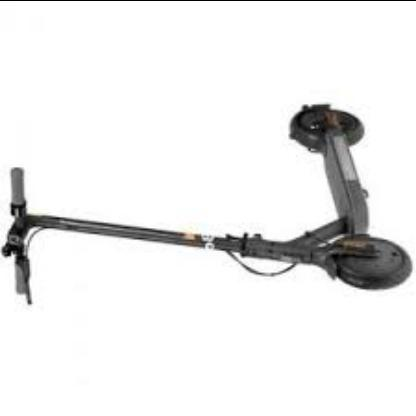bike: (3, 104, 414, 293)
